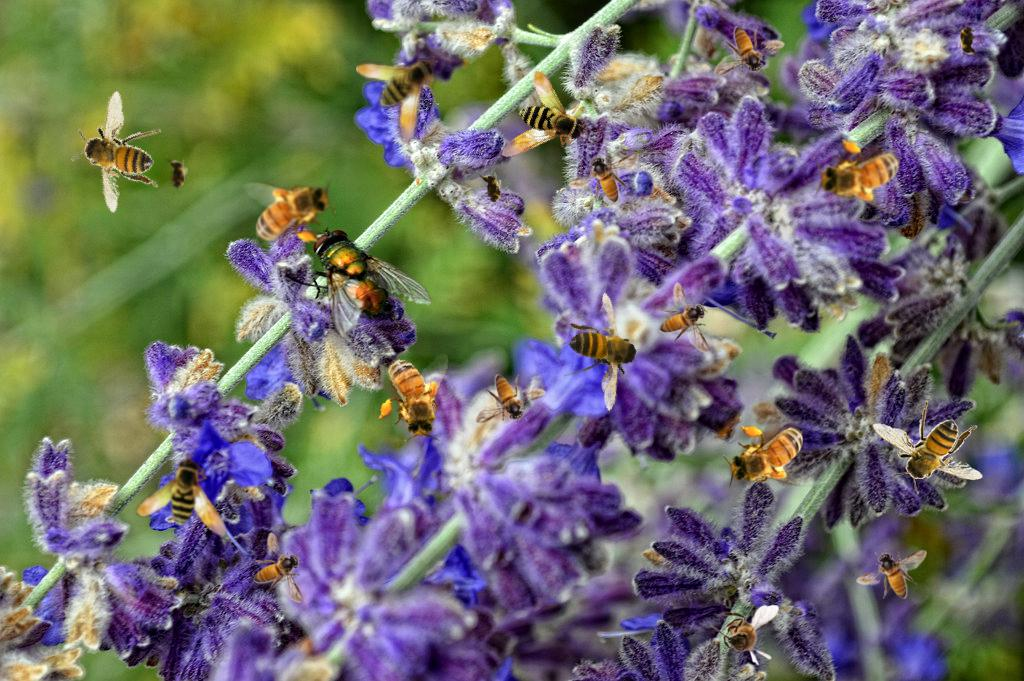Bee: (535, 282, 672, 426), (52, 80, 185, 220), (129, 449, 249, 571), (473, 64, 593, 182), (872, 400, 983, 494), (808, 130, 916, 221), (372, 344, 454, 447), (356, 56, 438, 144), (723, 422, 816, 490), (243, 178, 336, 246), (709, 605, 779, 666), (568, 153, 639, 203), (659, 282, 709, 353), (714, 26, 785, 76), (856, 549, 927, 599), (253, 532, 303, 603), (475, 374, 546, 424), (477, 167, 507, 211), (166, 155, 188, 195), (957, 20, 979, 60)
